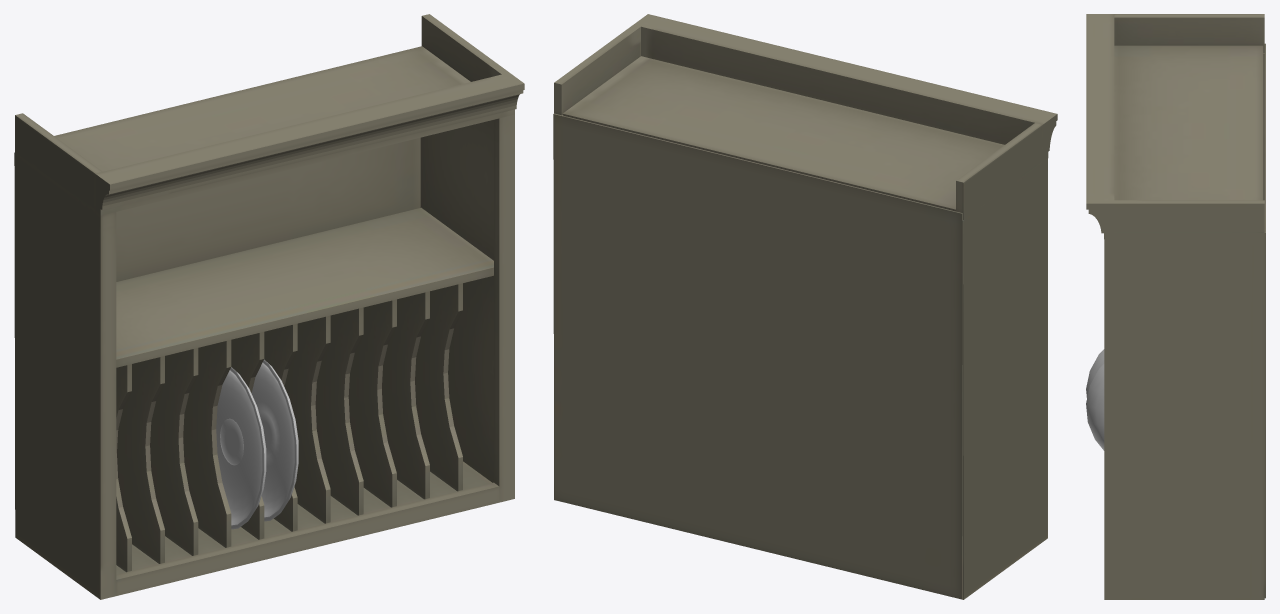
Rendered from ARMARIO80.glb.
3 renders of one model, left to right at view 1: azimuth 30°, elevation 25°; view 2: azimuth 150°, elevation 25°; view 3: azimuth 270°, elevation 25°, orthographic. The views are drawn at different scales.
Visible parts, largest first — view 1: ARMARIO80; view 2: ARMARIO80; view 3: ARMARIO80.
Boxes of the visible parts, x1=… form: ARMARIO80: x1=14, y1=14, x2=524, y2=599; ARMARIO80: x1=553, y1=14, x2=1057, y2=599; ARMARIO80: x1=1086, y1=14, x2=1265, y2=599.
Bounding box in the file's own units: 0.801 × 0.78 × 0.3211.
Materials: 2 (1 with a texture image).
